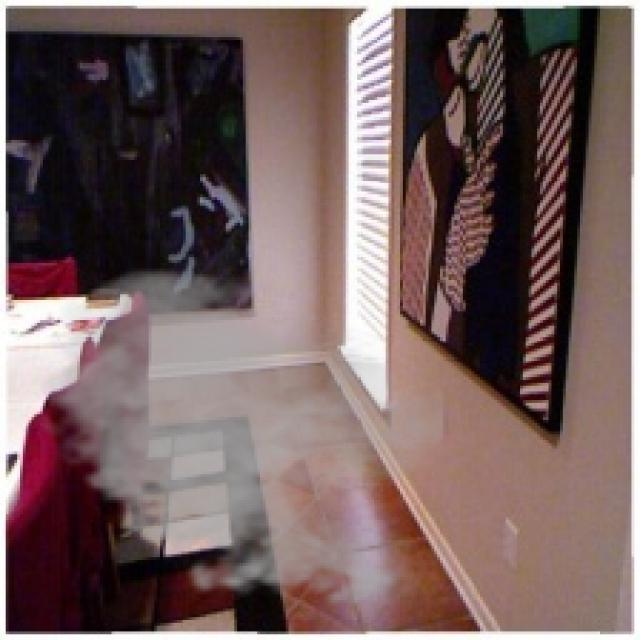Smoke: (29, 260, 448, 617)
